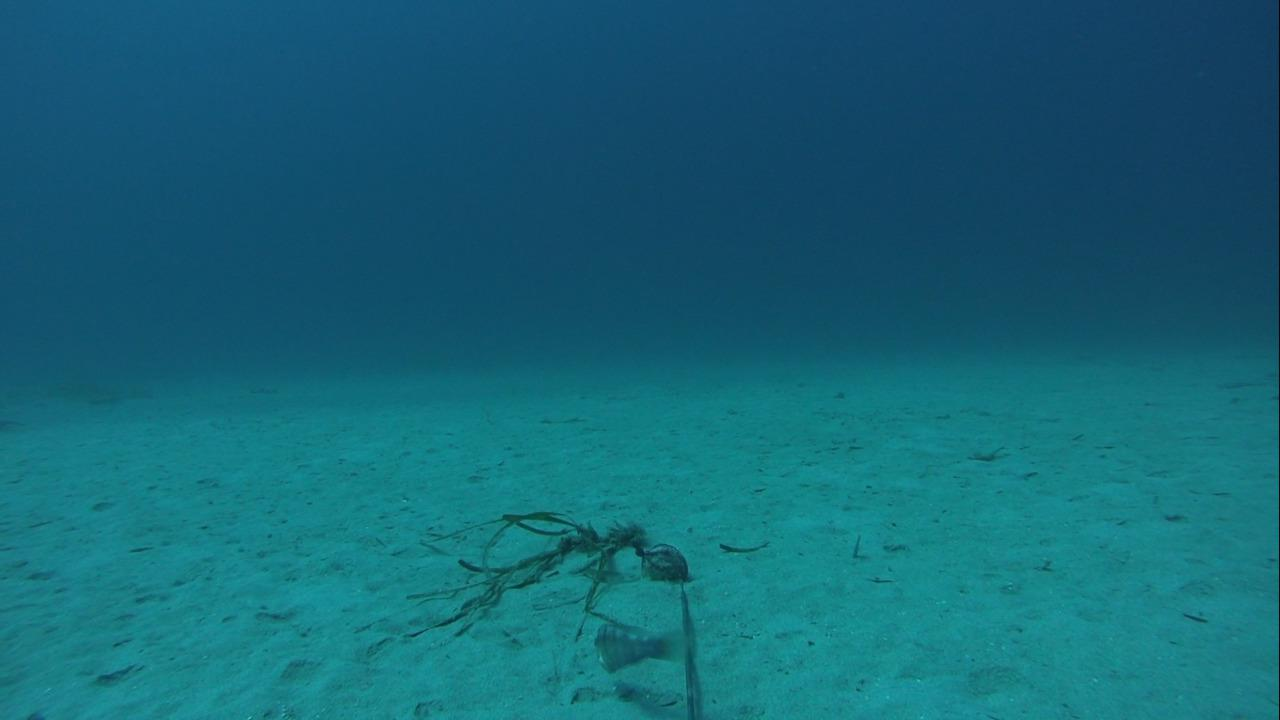raor: (582, 615, 697, 679)
